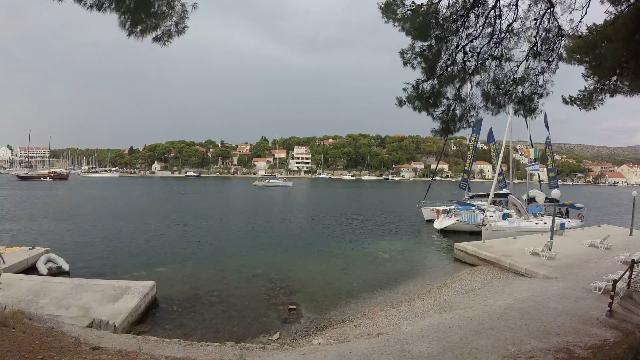Freighter: (12, 164, 74, 184)
Sailboat: (247, 176, 297, 192)
